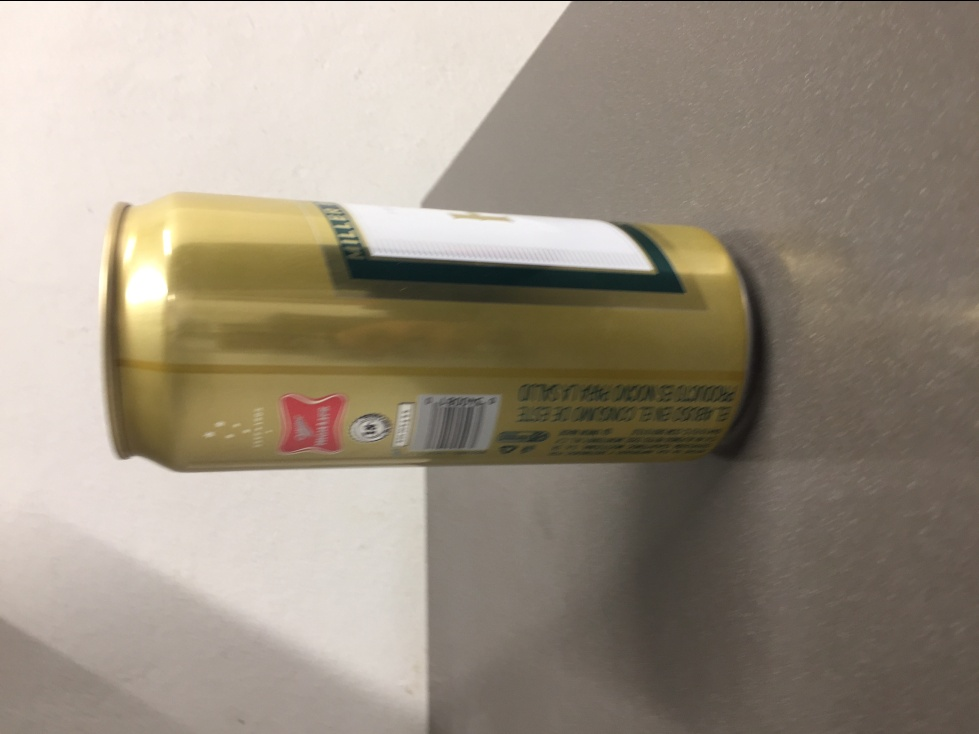miller: (98, 184, 756, 476)
